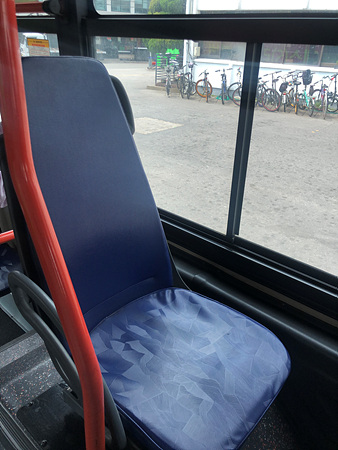seat: (17, 59, 291, 444)
